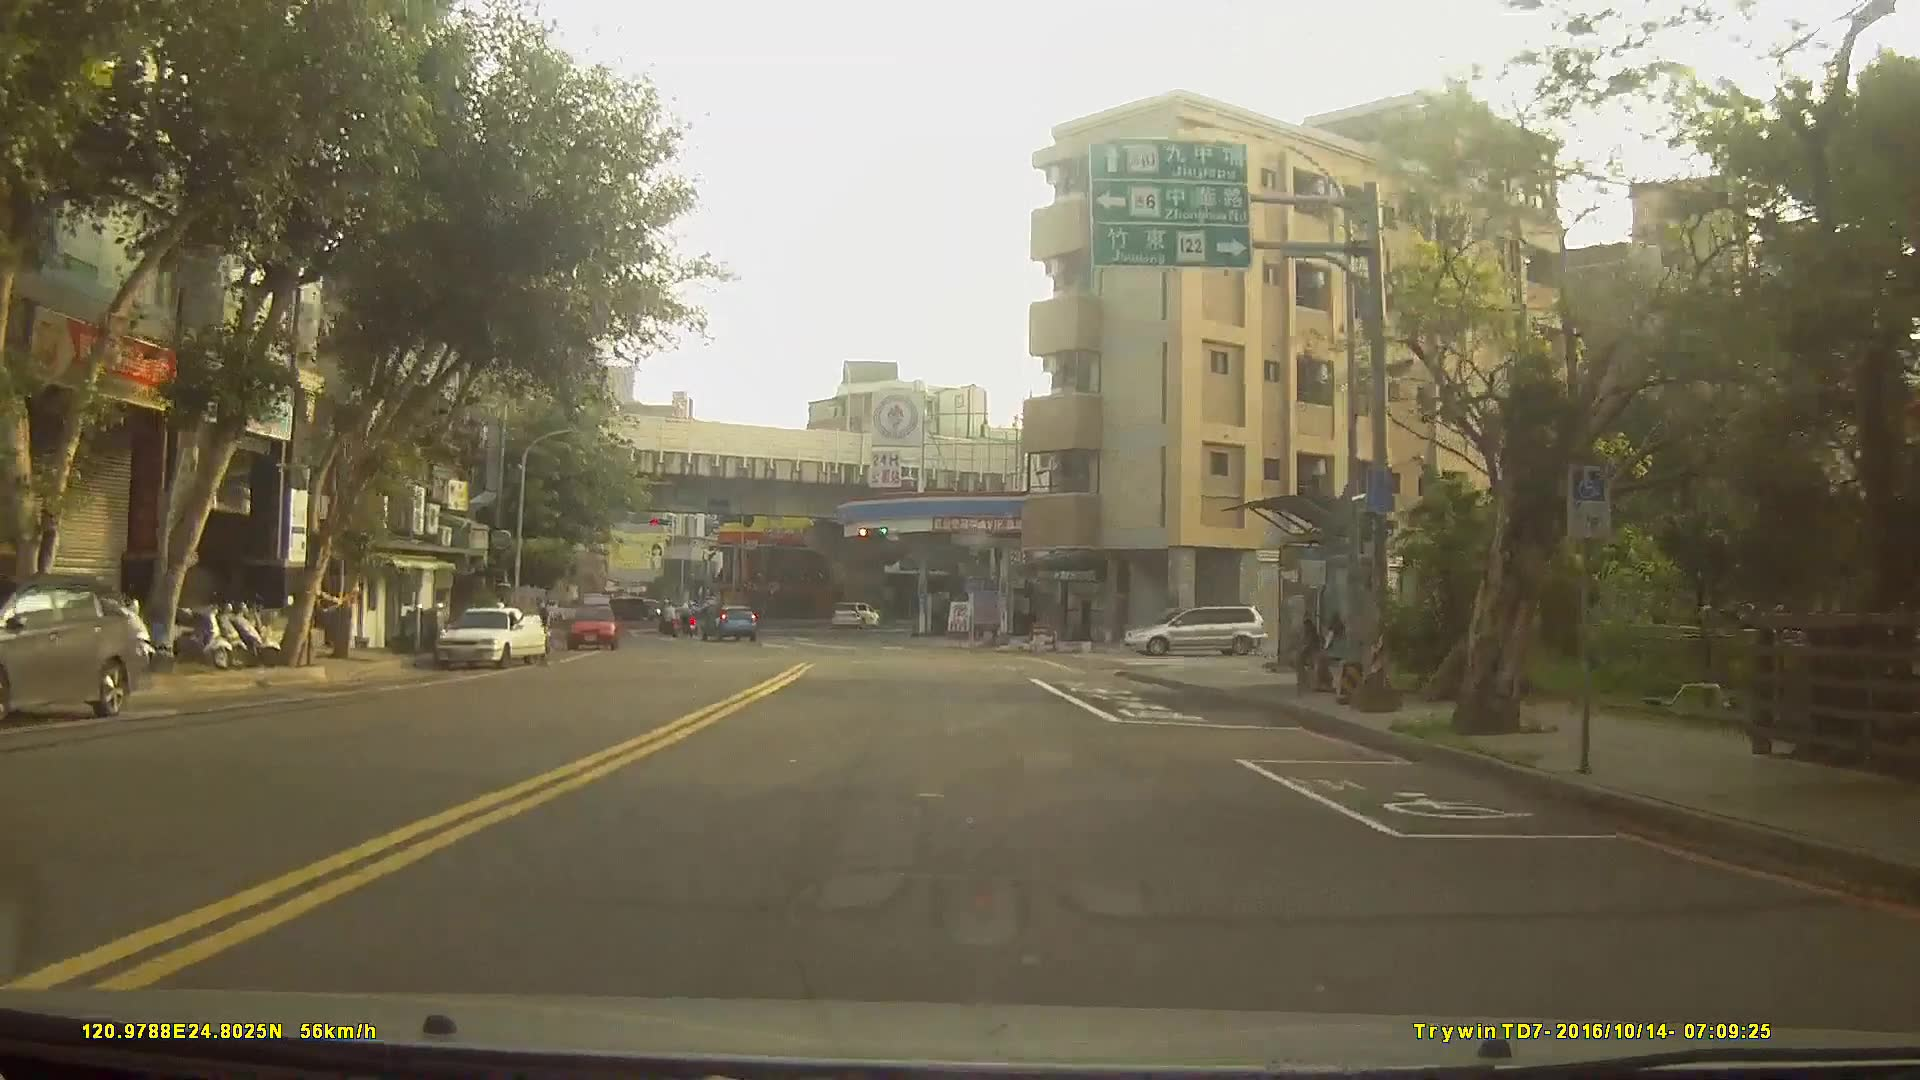pedestrian: (1317, 605, 1353, 708)
rider: (656, 601, 680, 641)
vehicle: (0, 570, 146, 725), (433, 603, 547, 668), (1125, 602, 1267, 656), (567, 601, 619, 651), (697, 601, 758, 641), (593, 594, 650, 624), (834, 601, 881, 629)
